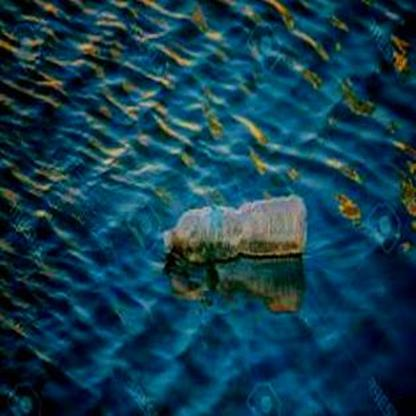plastic bottle: (163, 193, 308, 258)
